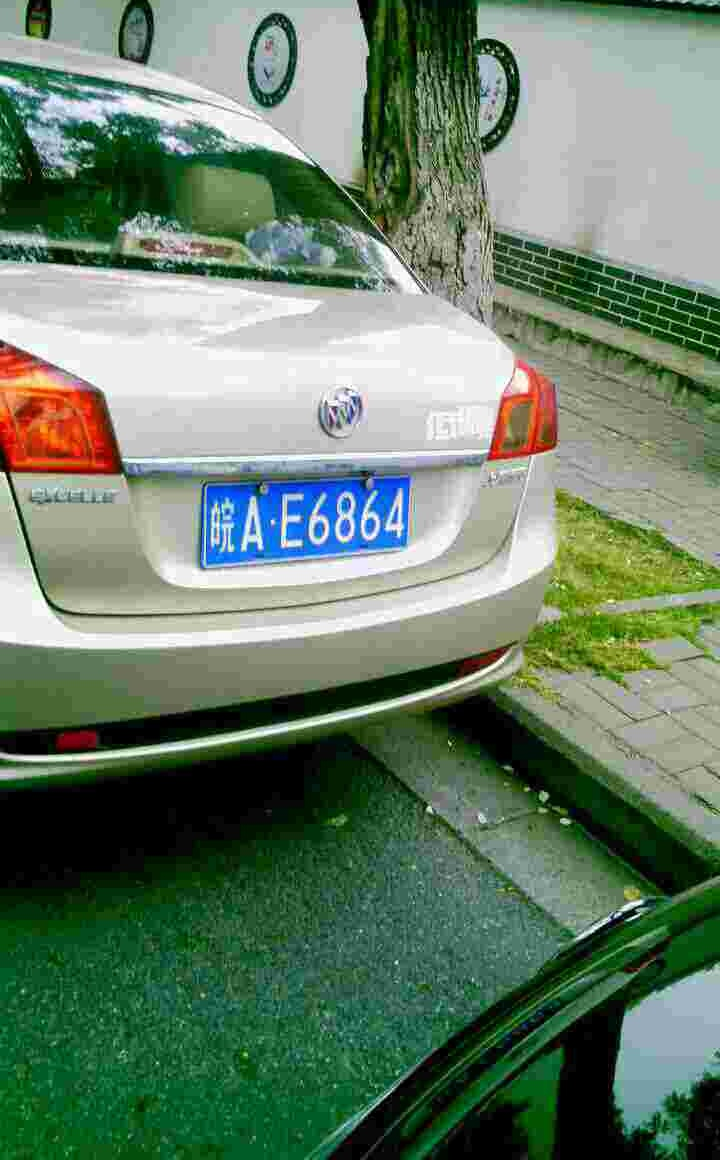plate: (210, 468, 422, 570)
